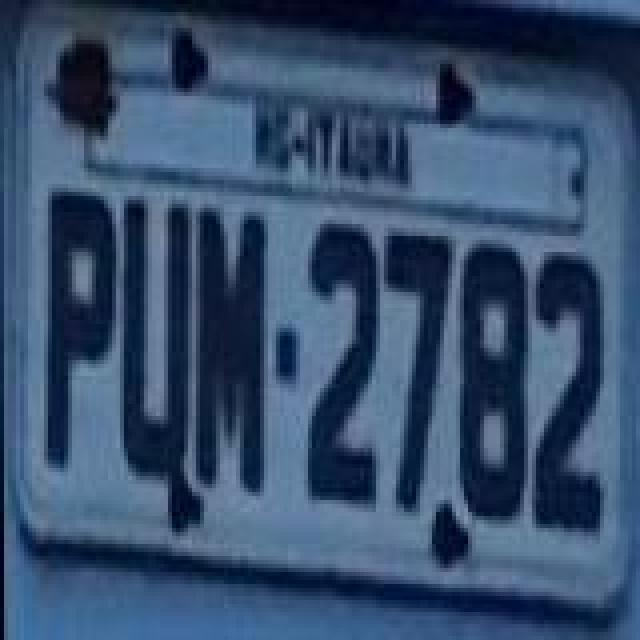2: (304, 214, 380, 514), (532, 246, 608, 546)
7: (382, 232, 454, 520)
8: (452, 240, 528, 528)
M: (192, 202, 268, 502)
P: (44, 188, 120, 476)
U: (118, 190, 190, 482)
